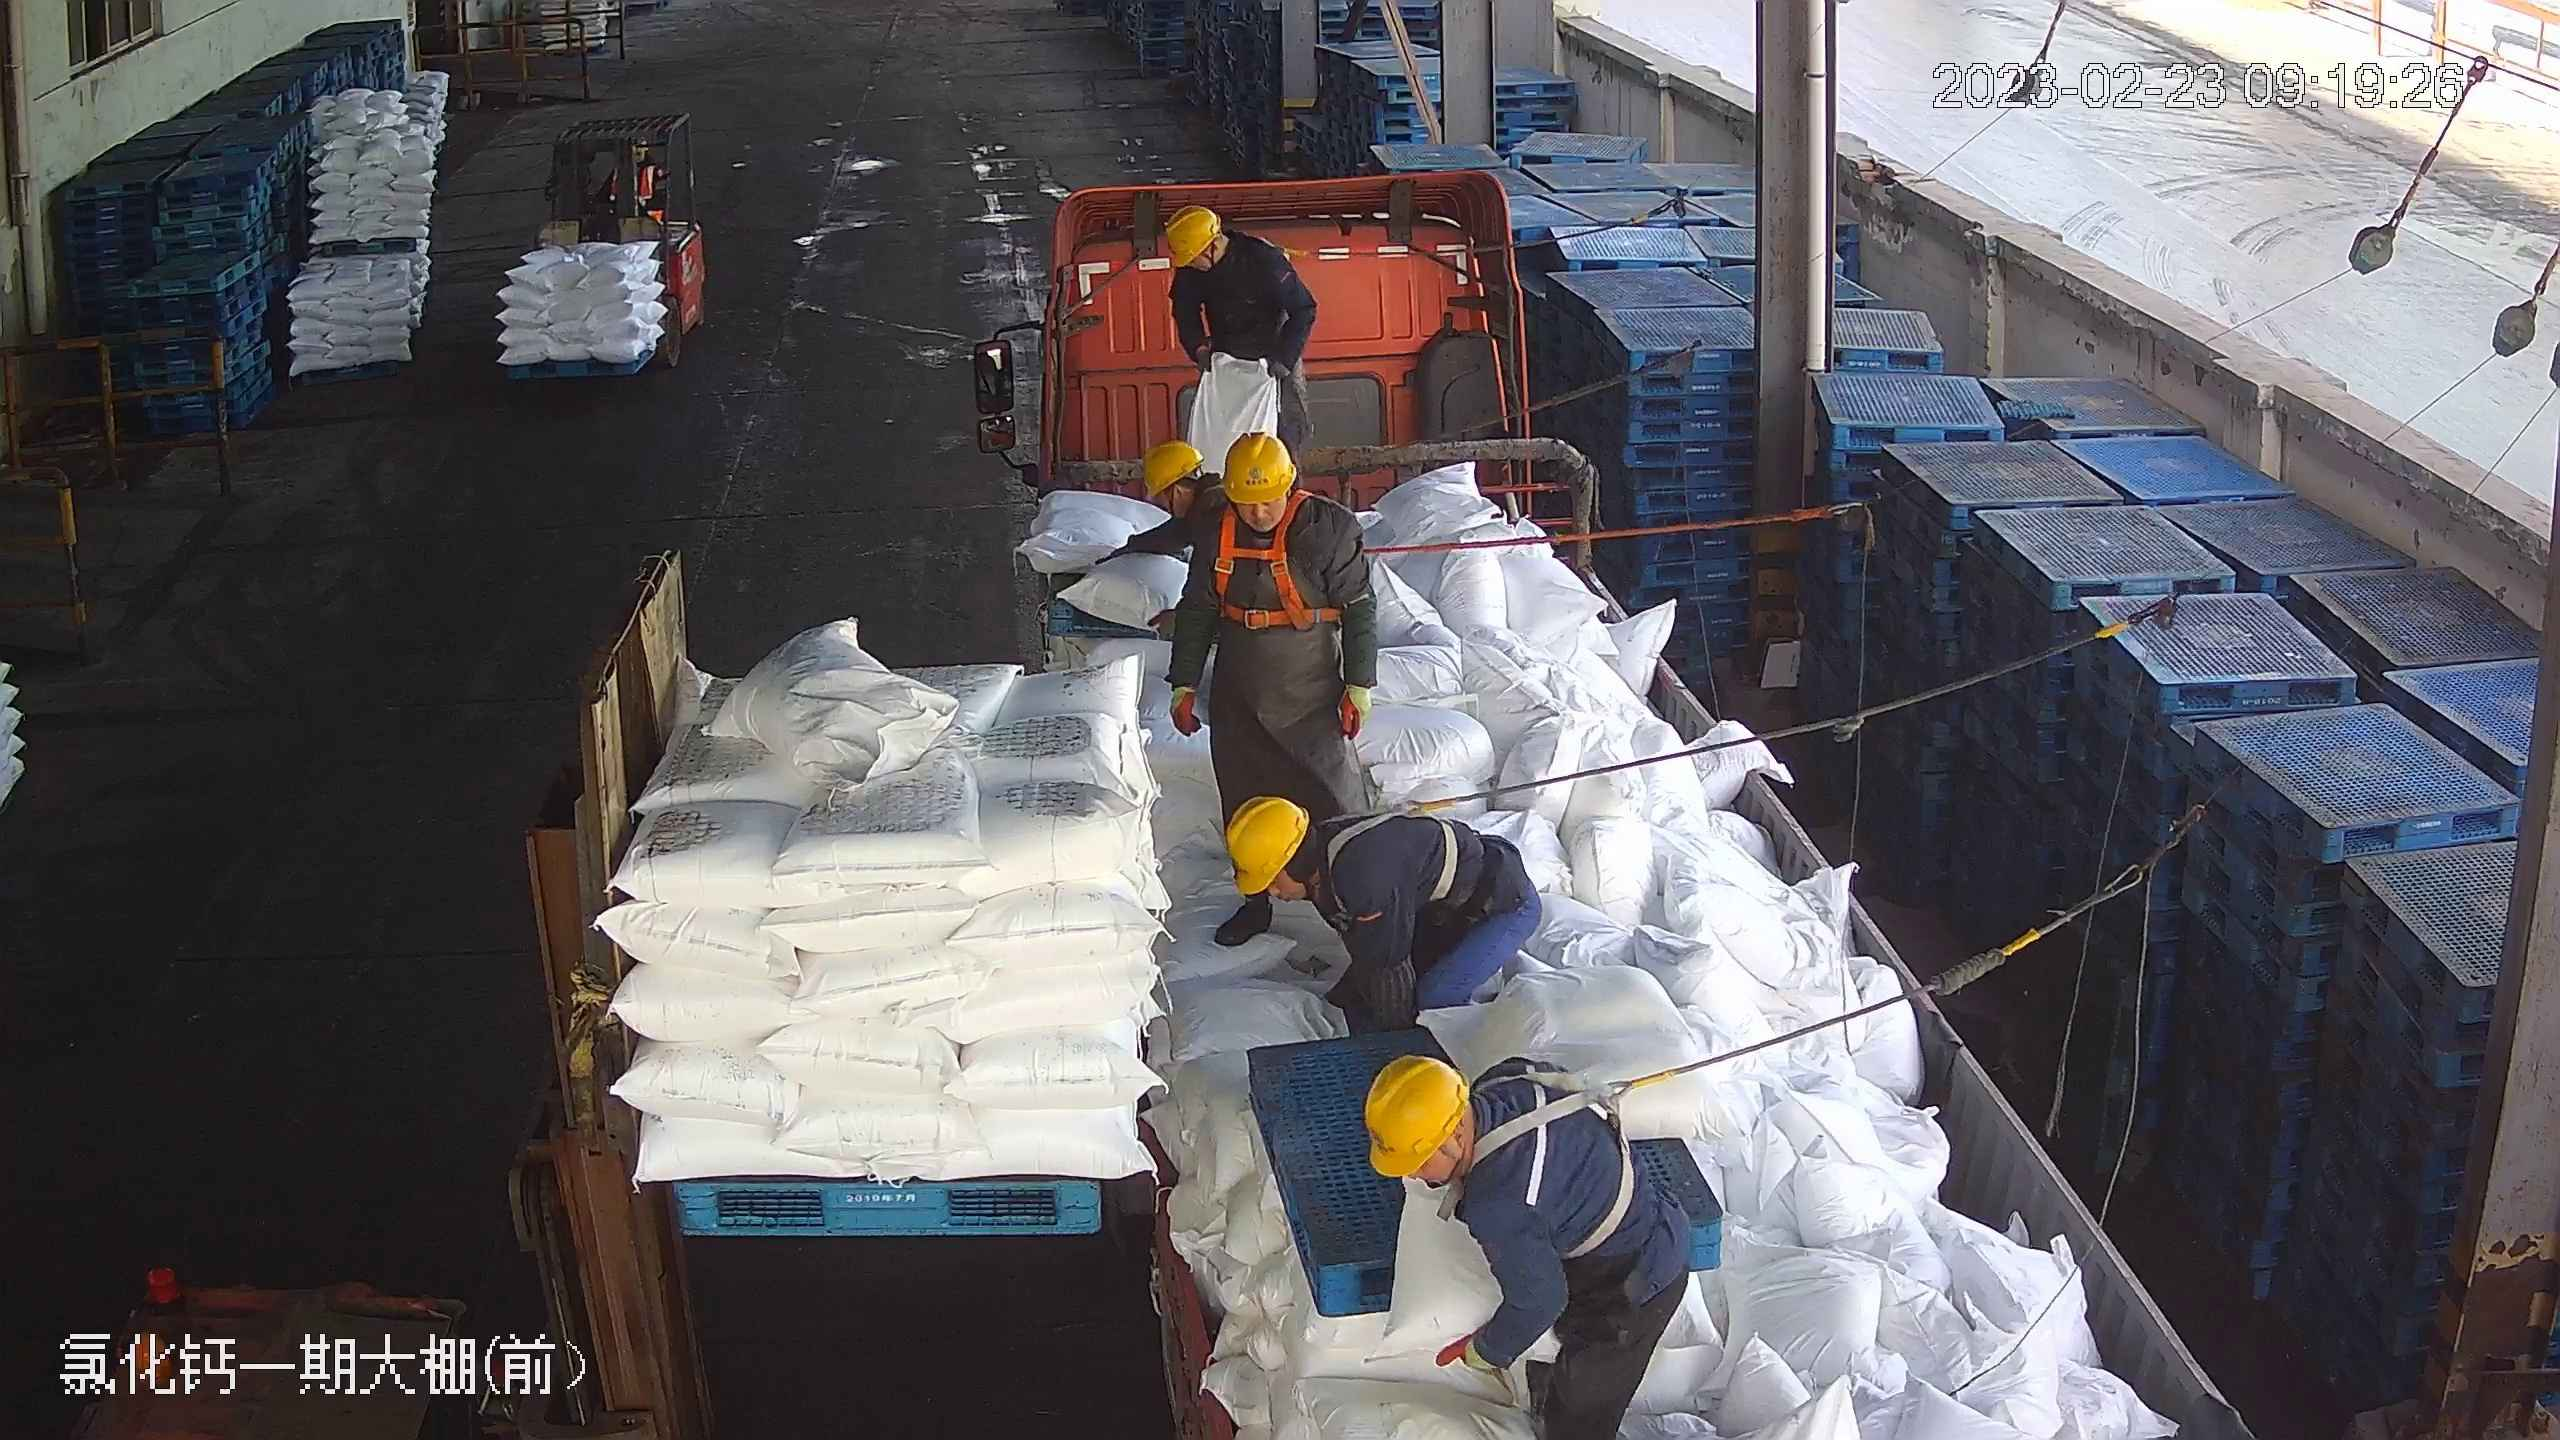belt: (1446, 1064, 1683, 1256), (1308, 793, 1472, 923), (1262, 230, 1328, 267)
head: (1366, 1059, 1575, 1250), (1192, 430, 1360, 591), (1226, 794, 1403, 935), (1168, 206, 1283, 302)
helmet: (1366, 1055, 1468, 1177), (1225, 795, 1308, 892), (1221, 432, 1294, 504), (1142, 439, 1206, 494), (1164, 206, 1221, 266)
people: (1369, 1058, 1678, 1439), (1169, 431, 1382, 856), (1208, 796, 1548, 1059), (1166, 205, 1317, 457)
truck: (975, 160, 2262, 1439)
